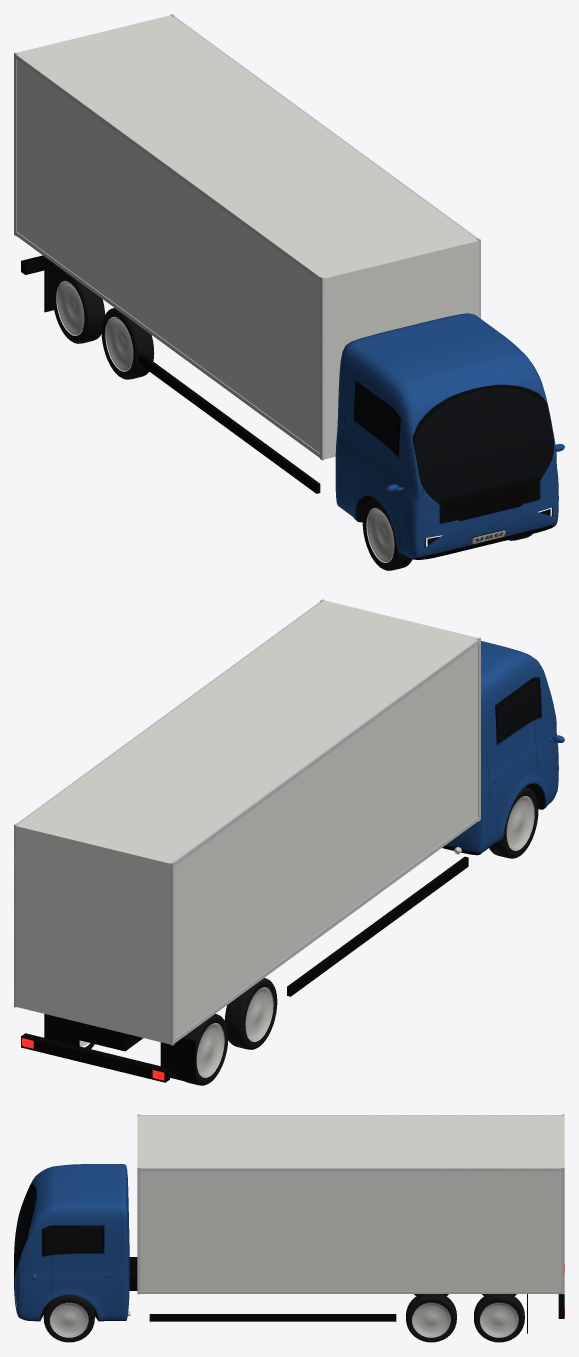
Rendered from car_traffic_truck.glb.
3 renders of one model, top to bottom at view 1: azimuth 30°, elevation 25°; view 2: azimuth 150°, elevation 25°; view 3: azimuth 270°, elevation 25°, orthographic. The views are drawn at different scales.
Visible parts, largest first — view 1: Body, Wheel_R2R, Wheel_RR, Wheel_FR; view 2: Body, Wheel_RR, Wheel_FR, Wheel_R2R; view 3: Body, Wheel_R2L, Wheel_RL, Wheel_FL.
Part boxes in pixels (<box>): Body: <box>14,14,564,559</box>; Wheel_R2R: <box>52,272,104,343</box>; Wheel_RR: <box>101,307,154,379</box>; Wheel_FR: <box>362,499,412,570</box>; Body: <box>14,599,564,1083</box>; Wheel_RR: <box>224,978,277,1049</box>; Wheel_FR: <box>489,786,538,858</box>; Wheel_R2R: <box>183,1013,228,1085</box>; Body: <box>14,1114,564,1333</box>; Wheel_R2L: <box>474,1294,524,1342</box>; Wheel_RL: <box>406,1294,456,1342</box>; Wheel_FL: <box>43,1295,94,1342</box>.
Bounding box in the file's own units: 2.83 × 3.91 × 10.95.
Materials: 11 (1 with a texture image).
